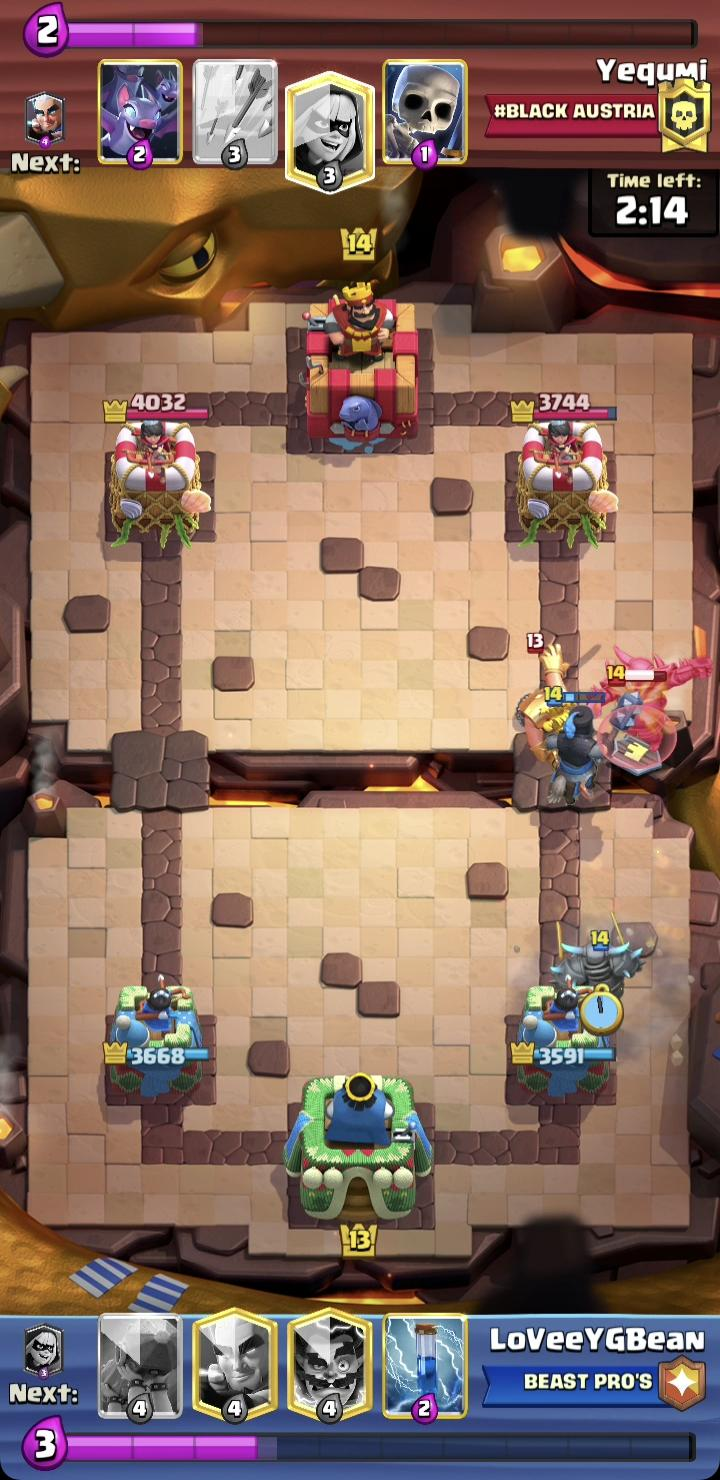ally_dark_prince: (543, 685, 643, 807)
ally_pekka: (550, 915, 645, 1009)
enemy_goldenknight: (514, 631, 579, 766)
enemy_pekka: (590, 626, 713, 751)
